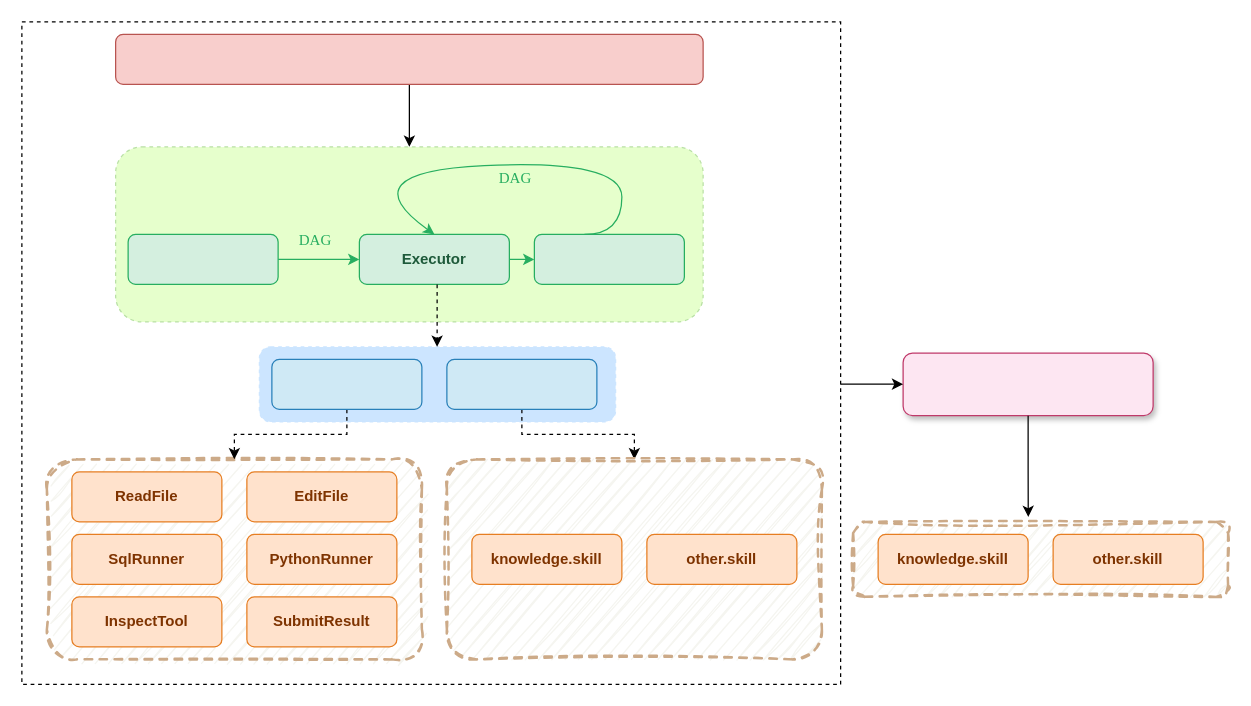
This 1251x706 diagram has some shape labels left out. The centre of each missing label's shape, as x and y in pixels:
"CodeAgent" belongs at point (346, 383).
"Planner" belongs at point (202, 258).
"Replanner" belongs at point (608, 258).
"ReportAgent" belongs at point (1029, 385).
"SkillsAgent" belongs at point (521, 383).
"User Input a Question" belongs at point (408, 58).
